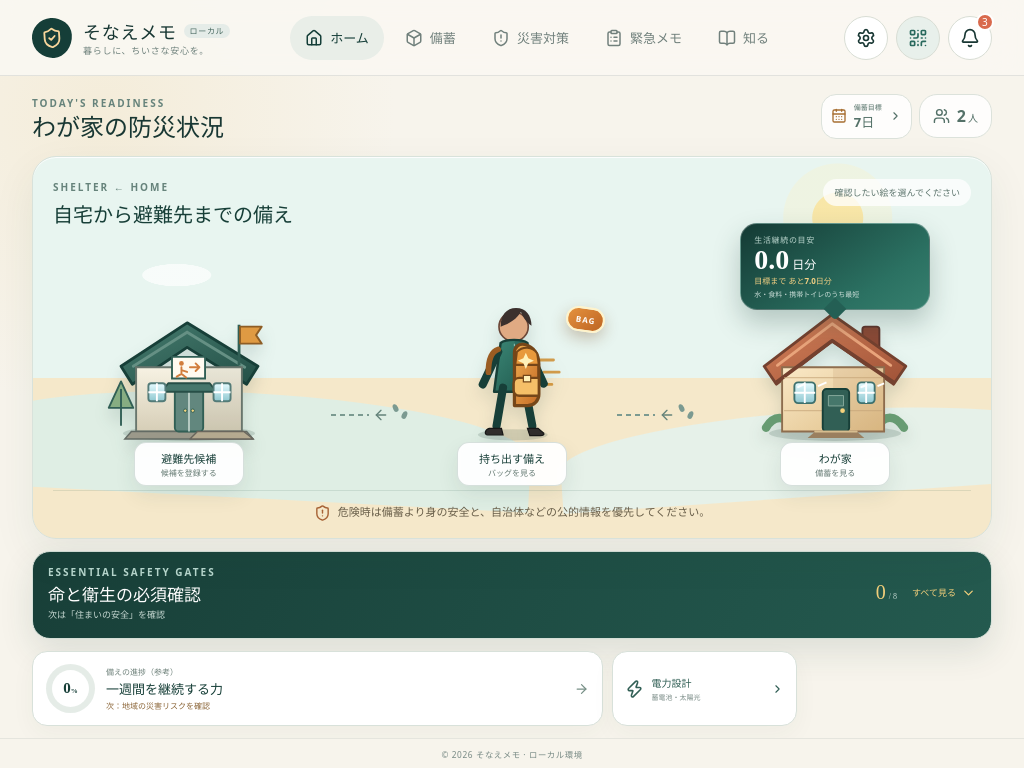
it: 電力設計ページの導線 › 在庫未登録でも命をつなぐ3分類を通知し、登録画面へ案内する
Click the button named "通知一覧を開く（3件）". click: (970, 38)
box: [948,16,992,60]
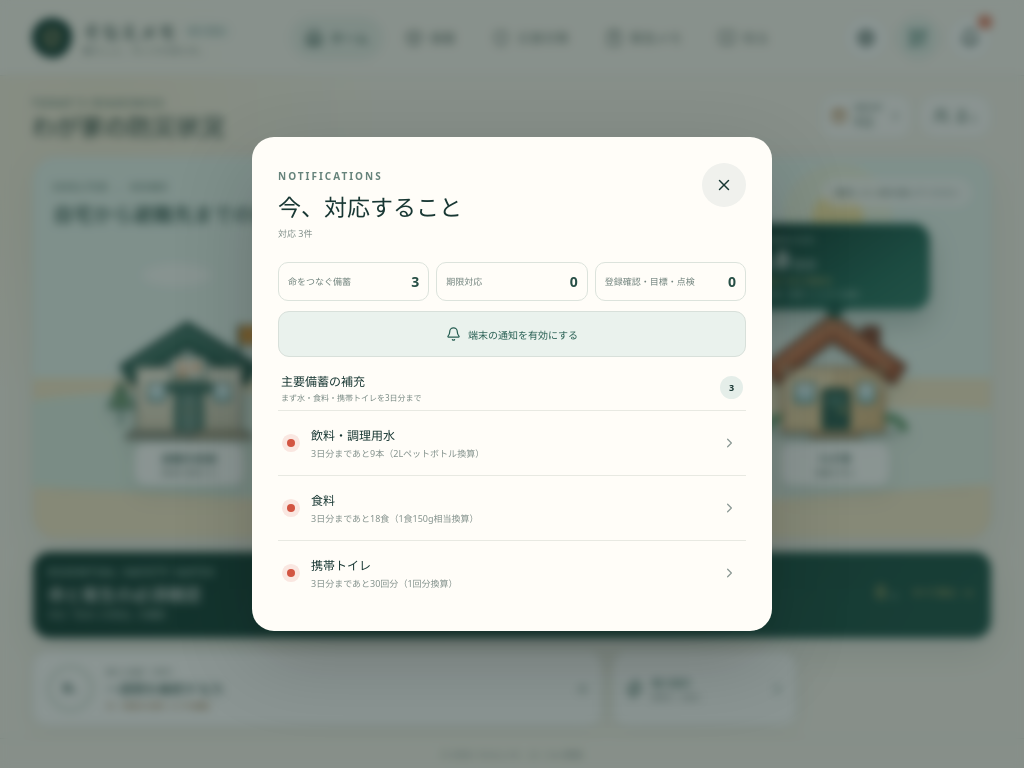
Expected: the heading "主要備蓄の補充" is shown, [281,373,365,390]
Expected: the text "飲料・調理用水" is shown, [311,427,395,444]
Expected: the text "食料" is shown, [311,492,335,509]
Click the button "飲料・調理用水". click: (353, 436)
box: [305,421,743,465]
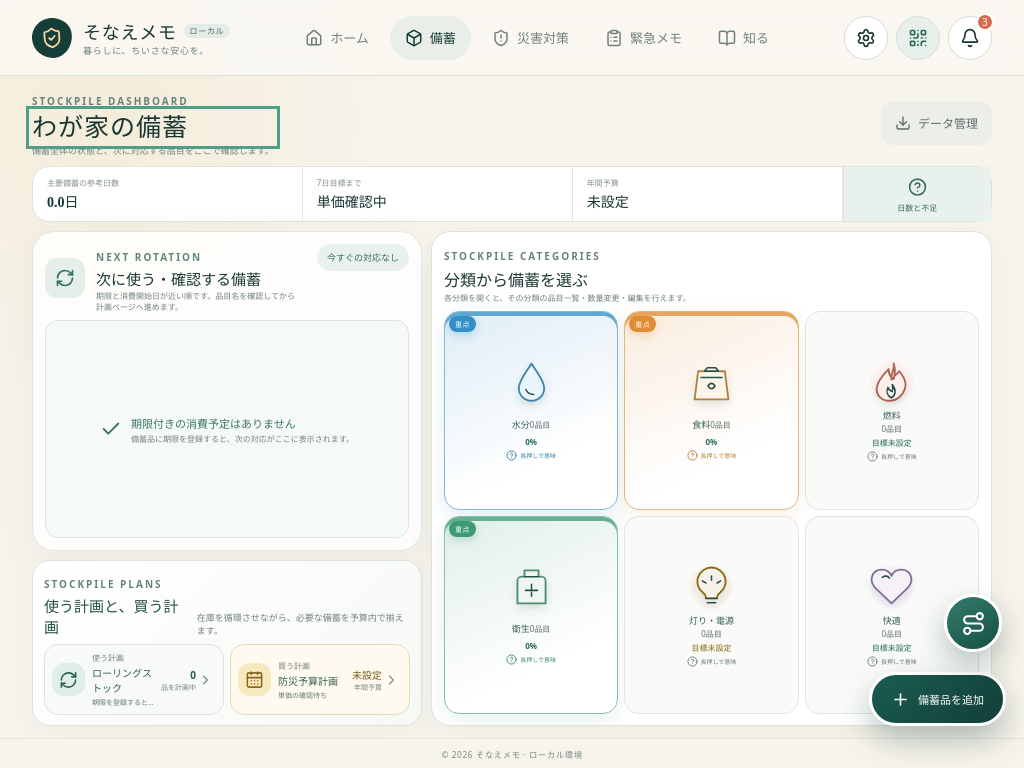
Expected: the heading "わが家の備蓄" is shown, [32,114,188,141]
